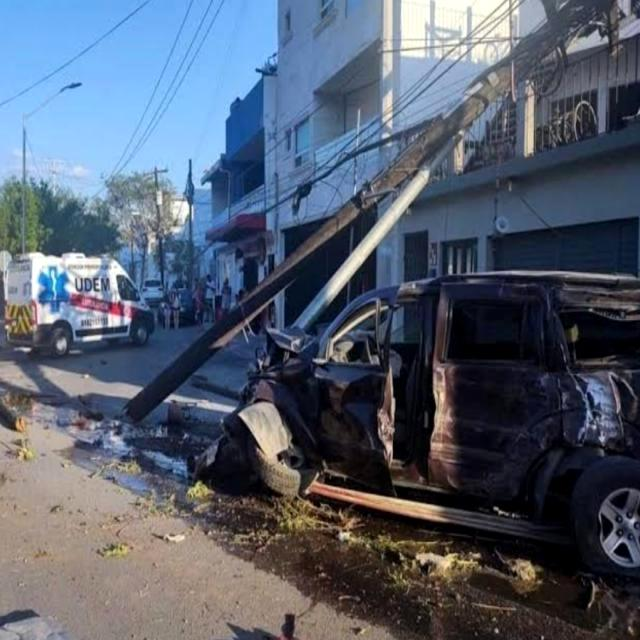Broken Pole: (123, 2, 627, 425), (286, 129, 467, 334)
